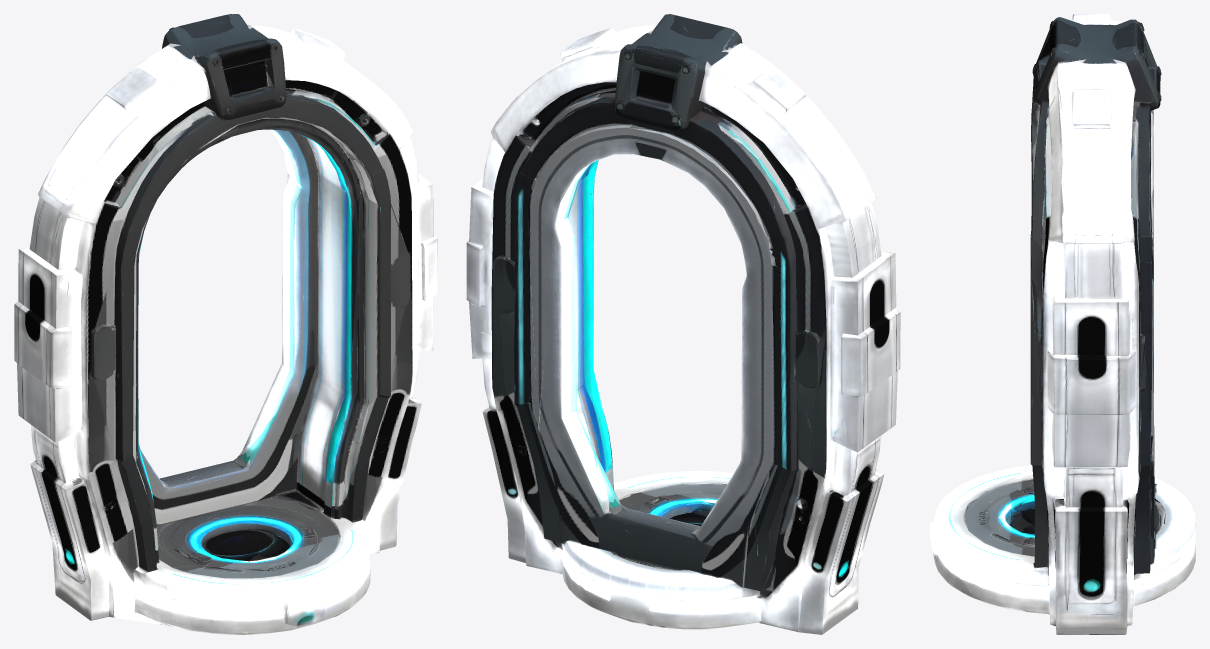
File: spawn-portal.glb
The picture shows the model from 3 angles, left to right: view 1: azimuth 30°, elevation 25°; view 2: azimuth 150°, elevation 25°; view 3: azimuth 270°, elevation 25°; orthographic projection. The views are drawn at different scales.
Bounding box in the file's own units: 1.43 × 1.9 × 0.8638.
Materials: 1 (1 with a texture image).
